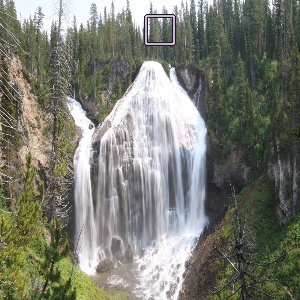square: (143, 12, 177, 48)
